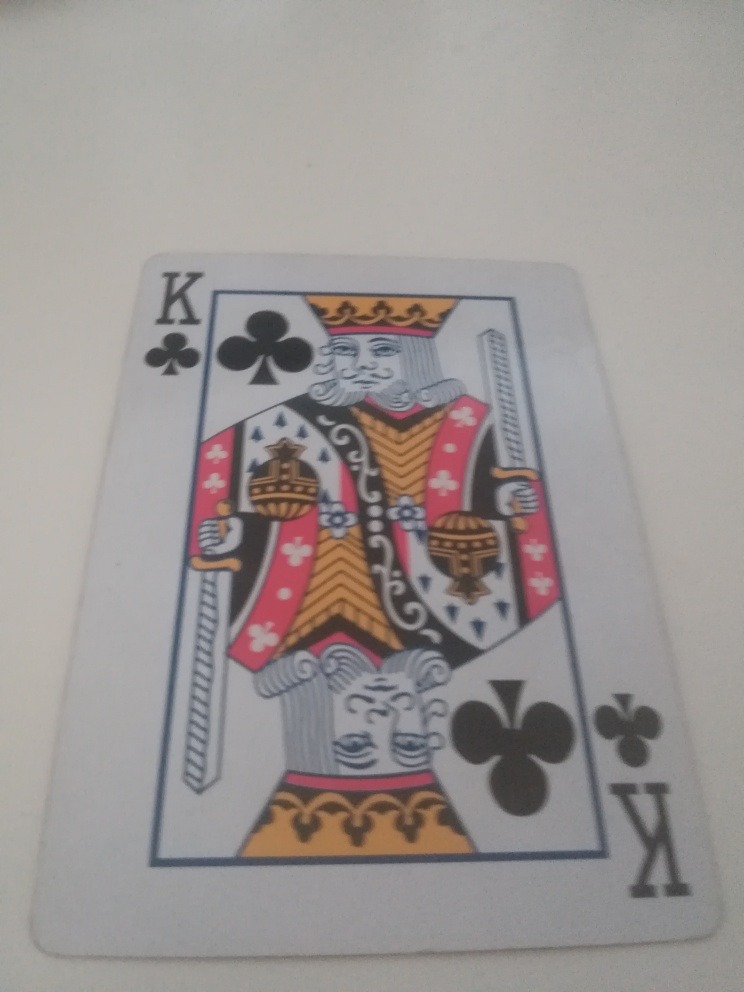KC: (137, 260, 214, 387)
